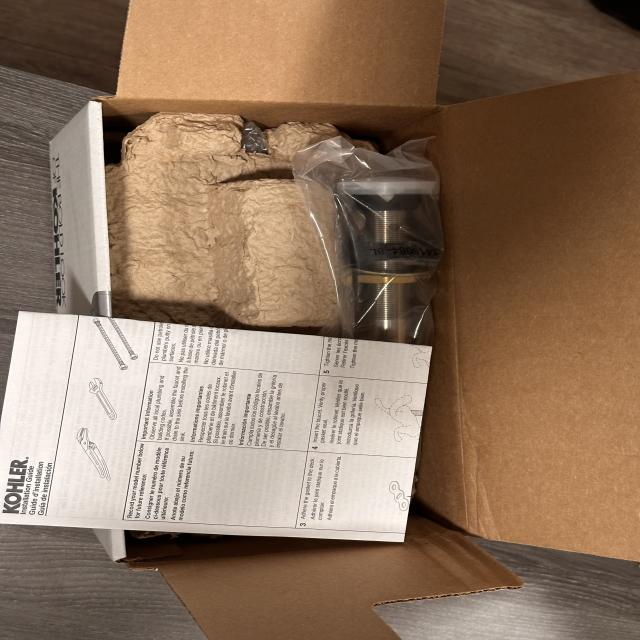11o: (293, 138, 444, 344)
8: (3, 313, 431, 541)
